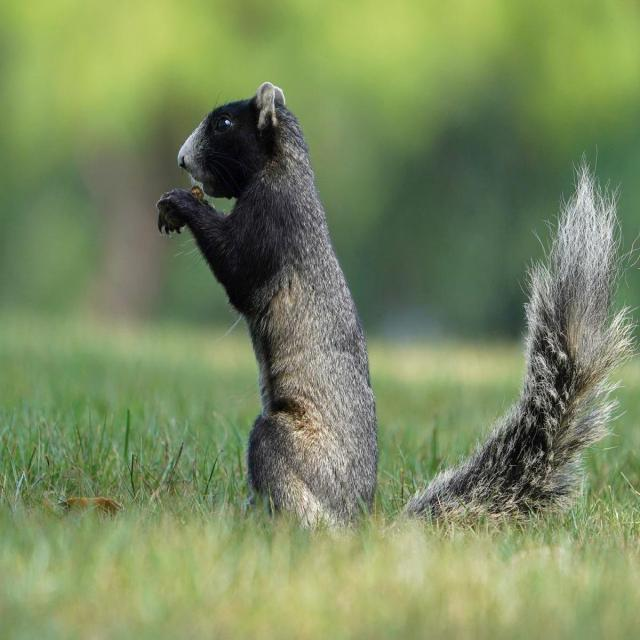Squirrel: (154, 79, 619, 542)
